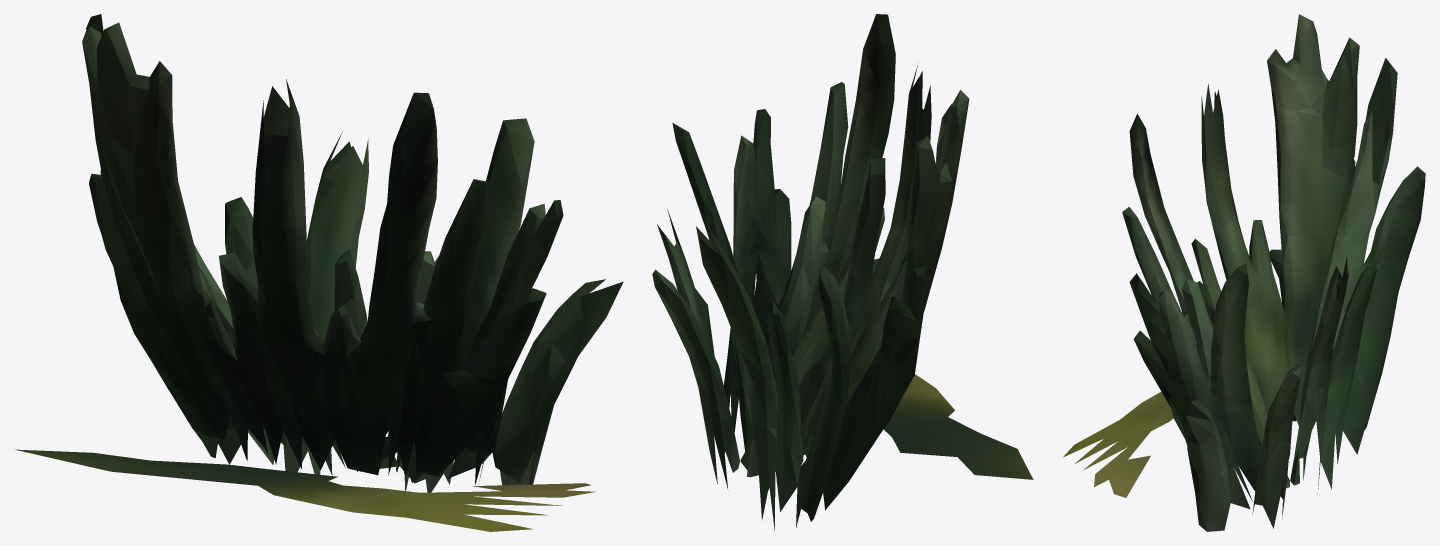
File: terrain4_plant_3.glb
3 views of the same model, side by side, from view 1: azimuth 30°, elevation 25°; view 2: azimuth 150°, elevation 25°; view 3: azimuth 270°, elevation 25° (orthographic). The views are drawn at different scales.
Visible parts, largest first — view 1: plant_3; view 2: plant_3; view 3: plant_3.
Part boxes in pixels (x1=…): plant_3: x1=15, y1=14, x2=623, y2=531; plant_3: x1=652, y1=14, x2=1033, y2=530; plant_3: x1=1063, y1=14, x2=1425, y2=531.
Size of the model in its own units: 13.16 by 13.09 by 10.6.
Materials: 1 (1 with a texture image).
